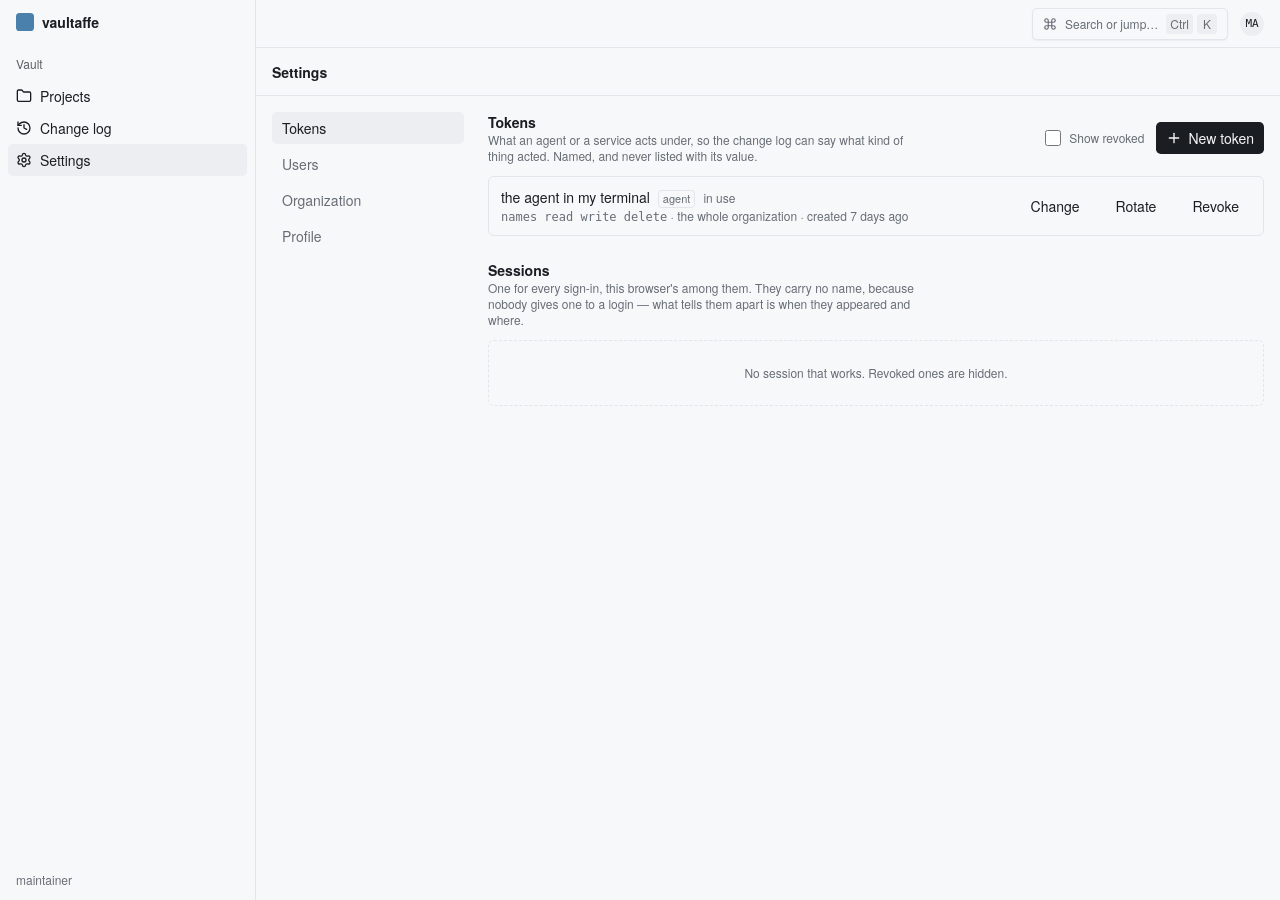
Scenario: the tokens › leaves the revoked out until they are asked for
Expected: the text "the agent in my terminal" is shown, [501,187,650,207]
Expected: the text "the agent that was" is not shown
Click the checkbox labelled "Show revoked". click: [1053, 138]
box: [1045,130,1061,146]
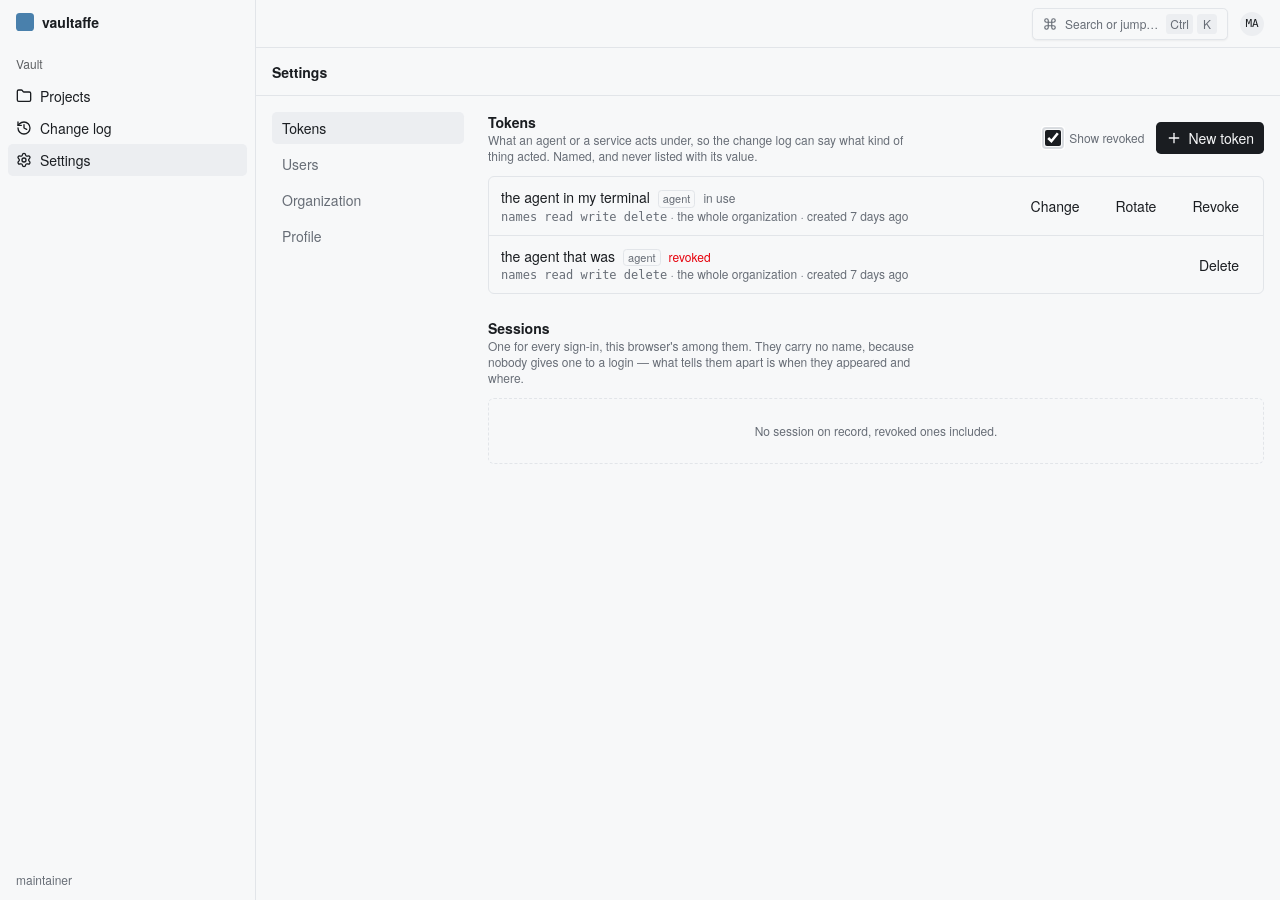
Now the text "the agent that was" is shown, box [501,246,615,266]
